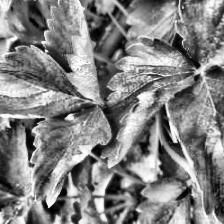Powdery Mildew Leaf: (101, 36, 199, 170), (165, 67, 224, 224), (29, 105, 113, 209), (38, 0, 104, 106), (173, 0, 224, 71)
